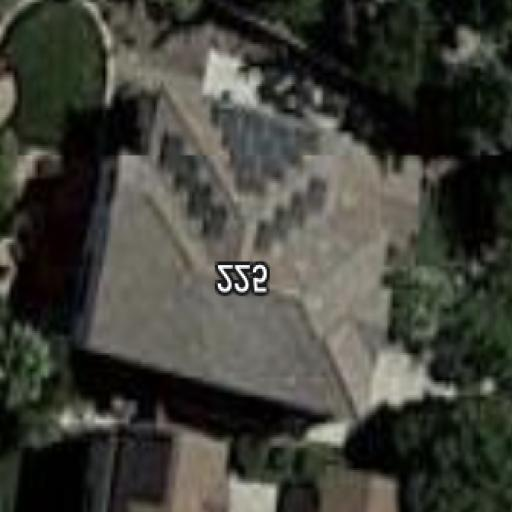Solar-Slope-Roof: (87, 85, 422, 420)
